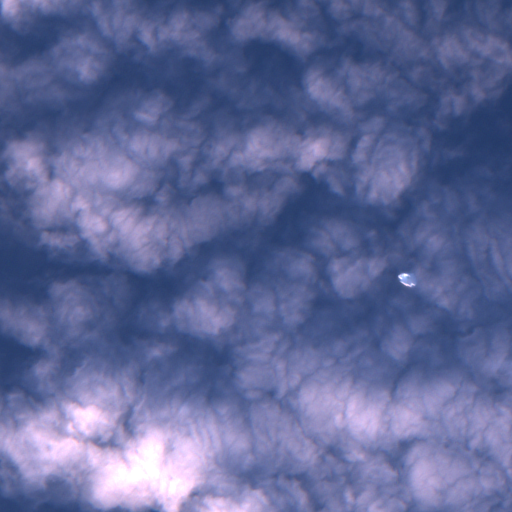Iceberg: (398, 273, 416, 286)
